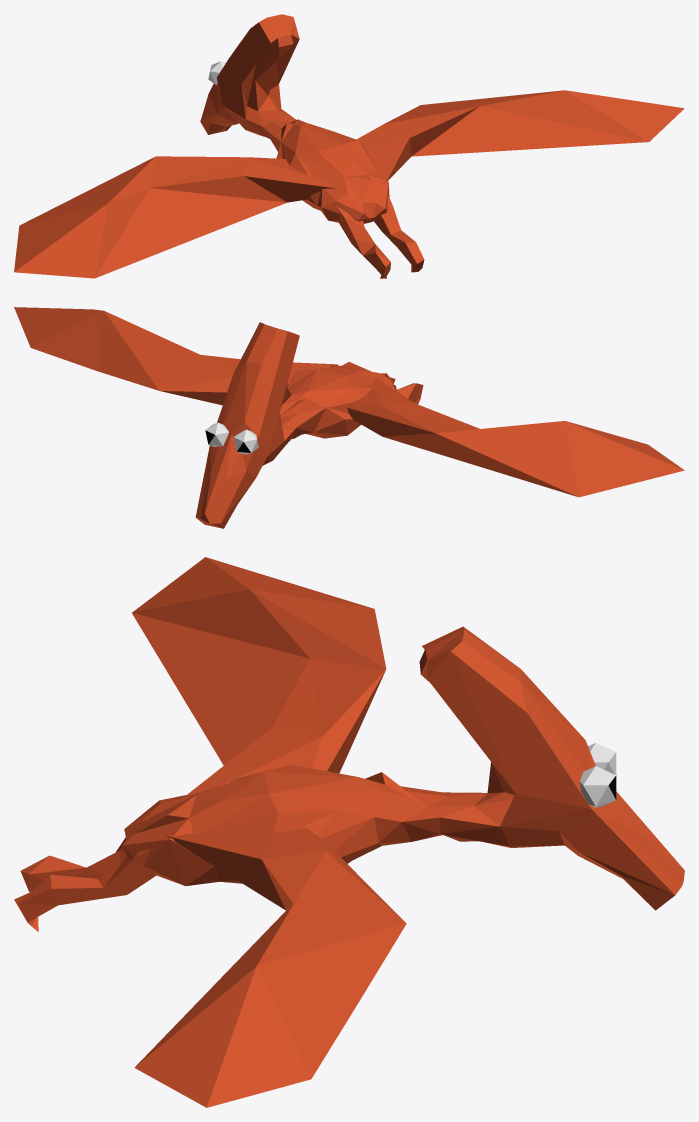
The model's file is LowPoly_Pterodactyl.fbx.
3 views of the same model, one above another, from view 1: azimuth 30°, elevation 25°; view 2: azimuth 150°, elevation 25°; view 3: azimuth 270°, elevation 25° (orthographic). The views are drawn at different scales.
Parts seen in each view (by area): view 1: Pterodactyl; view 2: Pterodactyl; view 3: Pterodactyl.
Part boxes in pixels (x1,y1,x2,y2): Pterodactyl: (14, 14, 684, 278); Pterodactyl: (14, 307, 684, 528); Pterodactyl: (14, 557, 684, 1107).
Size of the model in its own units: 687 by 165 by 354.
